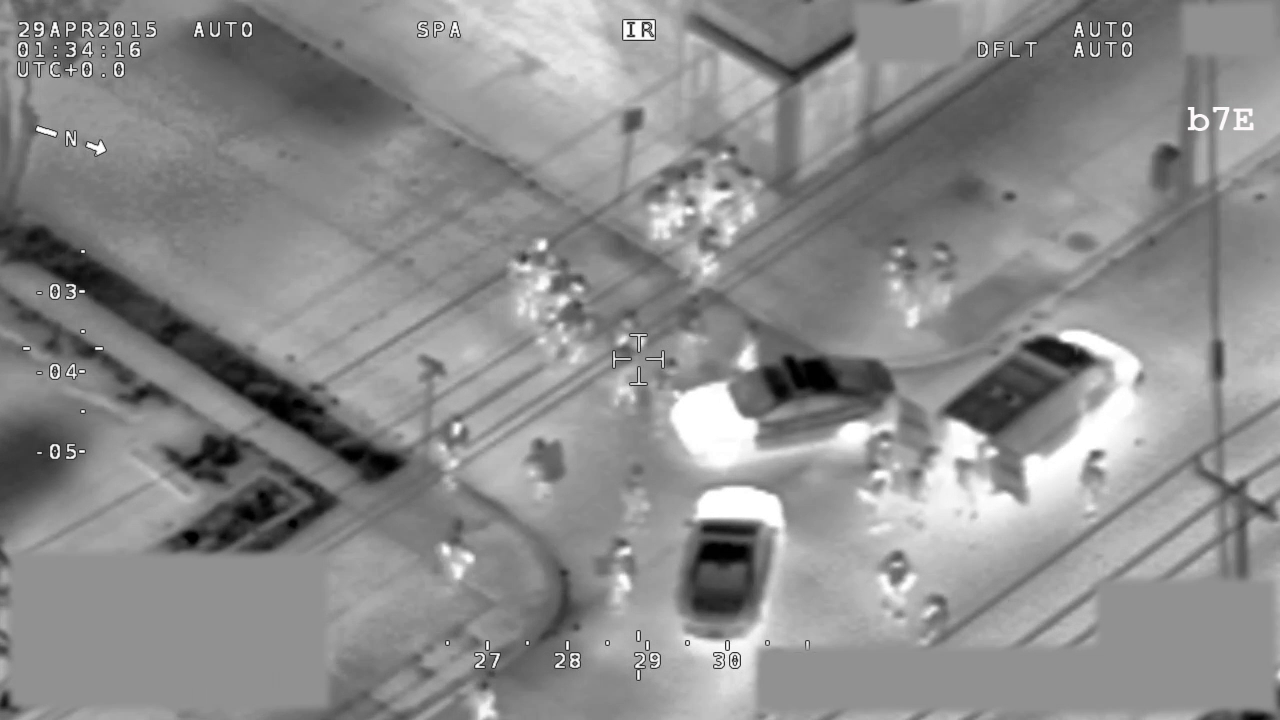vehicle: (902, 327, 1151, 508), (667, 353, 899, 465), (678, 483, 788, 638)
